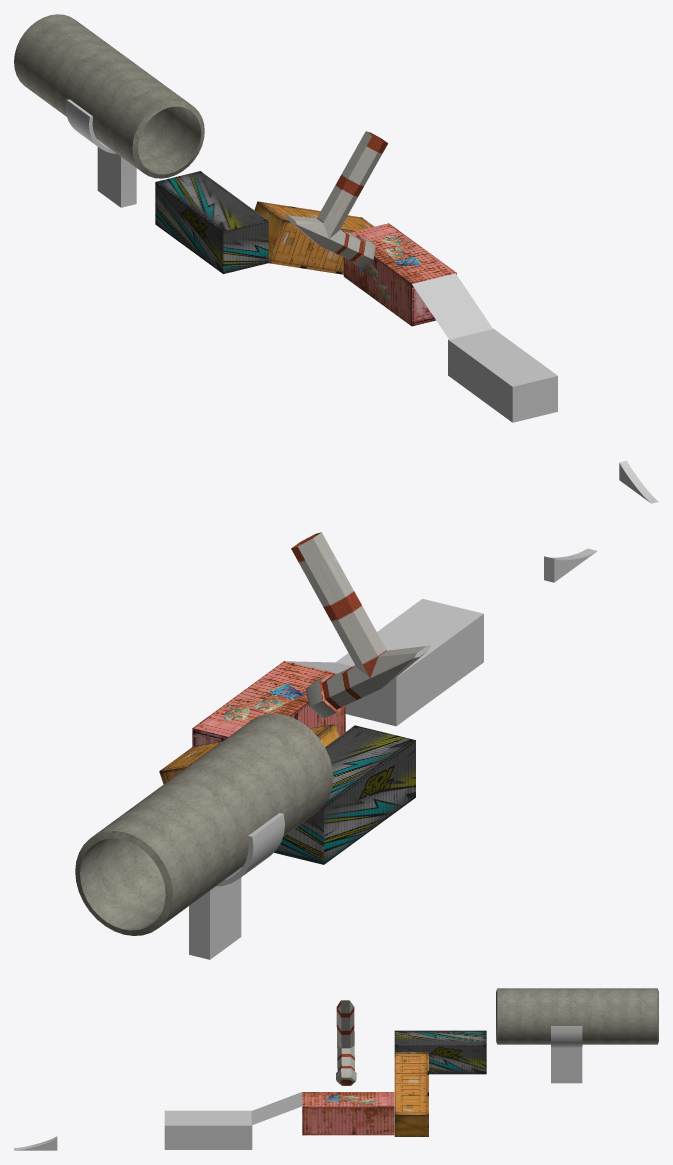
File: stunts props.fbx
3 views of the same model, one above another, from view 1: azimuth 30°, elevation 25°; view 2: azimuth 150°, elevation 25°; view 3: azimuth 270°, elevation 25° (orthographic). The views are drawn at different scales.
Parts seen in each view (by area): view 1: sewer_stunt_sewer_Pipe_0, Container_red_005_Container_Albedo_0, container_blue_003_stunt_02_0, Container_red_004_Container_Albedo_0, Hammer_005_Container_Albedo_0, container_blue_004_stunt_6_0, Plane_Scrap_003_stunt_02_0, pickup_hook_TexturesCom_PaintRusted3_1K_albedo_0; view 2: sewer_stunt_sewer_Pipe_0, Container_red_005_Container_Albedo_0, container_blue_003_stunt_02_0, Hammer_005_Container_Albedo_0, Container_red_004_Container_Albedo_0, pickup_hook_TexturesCom_PaintRusted3_1K_albedo_0, container_blue_004_stunt_6_0, Wood_stunt_2_001_woodplanks_0; view 3: sewer_stunt_sewer_Pipe_0, Container_red_004_Container_Albedo_0, container_blue_003_stunt_02_0, Container_red_005_Container_Albedo_0, container_blue_004_stunt_6_0, pickup_hook_TexturesCom_PaintRusted3_1K_albedo_0, Hammer_005_Container_Albedo_0, Plane_Scrap_003_stunt_02_0, Wood_stunt_2_001_woodplanks_0.
Part boxes in pixels (bbox=[...]): sewer_stunt_sewer_Pipe_0: bbox=[14, 14, 204, 178]; Container_red_005_Container_Albedo_0: bbox=[155, 171, 268, 273]; container_blue_003_stunt_02_0: bbox=[448, 328, 557, 422]; Container_red_004_Container_Albedo_0: bbox=[343, 223, 456, 326]; Hammer_005_Container_Albedo_0: bbox=[284, 131, 387, 267]; container_blue_004_stunt_6_0: bbox=[254, 201, 374, 274]; Plane_Scrap_003_stunt_02_0: bbox=[412, 273, 492, 339]; pickup_hook_TexturesCom_PaintRusted3_1K_albedo_0: bbox=[65, 99, 136, 207]; sewer_stunt_sewer_Pipe_0: bbox=[75, 713, 333, 935]; Container_red_005_Container_Albedo_0: bbox=[274, 725, 415, 864]; container_blue_003_stunt_02_0: bbox=[335, 598, 483, 726]; Hammer_005_Container_Albedo_0: bbox=[291, 532, 430, 717]; Container_red_004_Container_Albedo_0: bbox=[192, 661, 345, 746]; pickup_hook_TexturesCom_PaintRusted3_1K_albedo_0: bbox=[189, 813, 284, 959]; container_blue_004_stunt_6_0: bbox=[159, 724, 339, 784]; Wood_stunt_2_001_woodplanks_0: bbox=[544, 548, 597, 582]; sewer_stunt_sewer_Pipe_0: bbox=[496, 988, 658, 1044]; Container_red_004_Container_Albedo_0: bbox=[302, 1092, 394, 1135]; container_blue_003_stunt_02_0: bbox=[164, 1110, 252, 1149]; Container_red_005_Container_Albedo_0: bbox=[394, 1030, 486, 1074]; container_blue_004_stunt_6_0: bbox=[394, 1052, 428, 1136]; pickup_hook_TexturesCom_PaintRusted3_1K_albedo_0: bbox=[551, 1026, 582, 1083]; Hammer_005_Container_Albedo_0: bbox=[336, 1000, 356, 1085]; Plane_Scrap_003_stunt_02_0: bbox=[251, 1092, 302, 1125]; Wood_stunt_2_001_woodplanks_0: bbox=[14, 1136, 57, 1150].
Size of the model in its own units: 2380 by 2469 by 10660.
